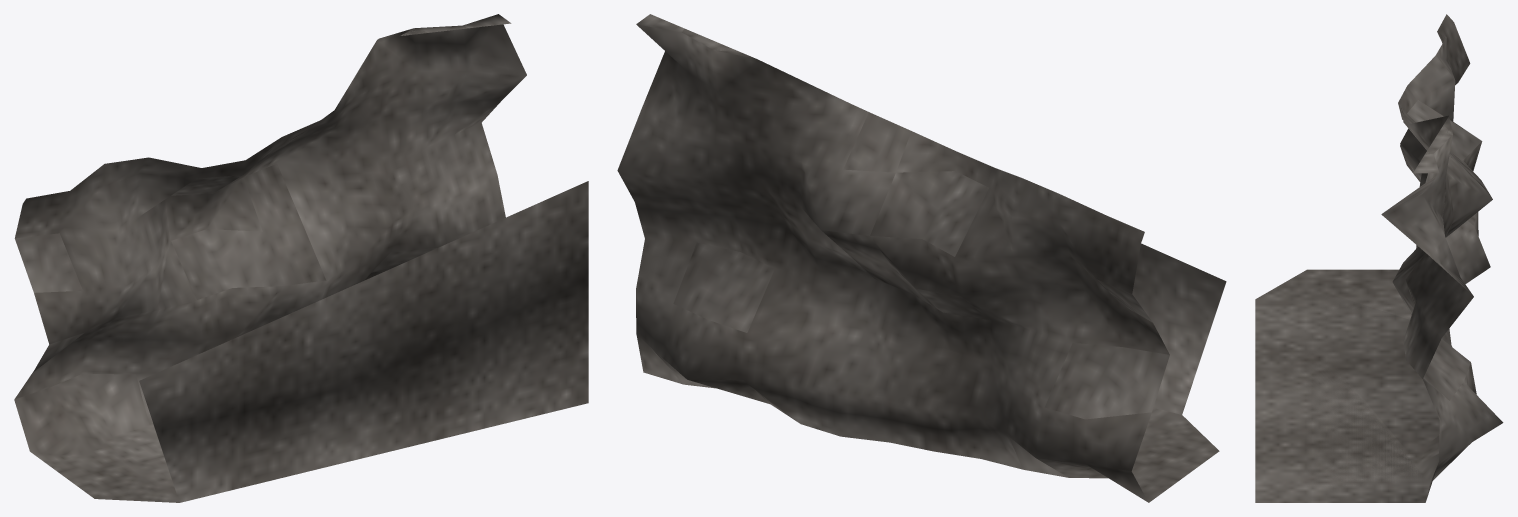
Rendered from cliff_face_1.glb.
3 renders of one model, left to right at view 1: azimuth 30°, elevation 25°; view 2: azimuth 150°, elevation 25°; view 3: azimuth 270°, elevation 25°, orthographic. The views are drawn at different scales.
Parts seen in each view (by area): view 1: cliff_face_1; view 2: cliff_face_1; view 3: cliff_face_1.
Boxes of the visible parts, <box> form: cliff_face_1: <box>14,14,588,502</box>; cliff_face_1: <box>617,14,1226,502</box>; cliff_face_1: <box>1255,14,1503,502</box>.
Bounding box in the file's own units: 8.5 × 5.6 × 3.82.
1 material, 1 textured.
